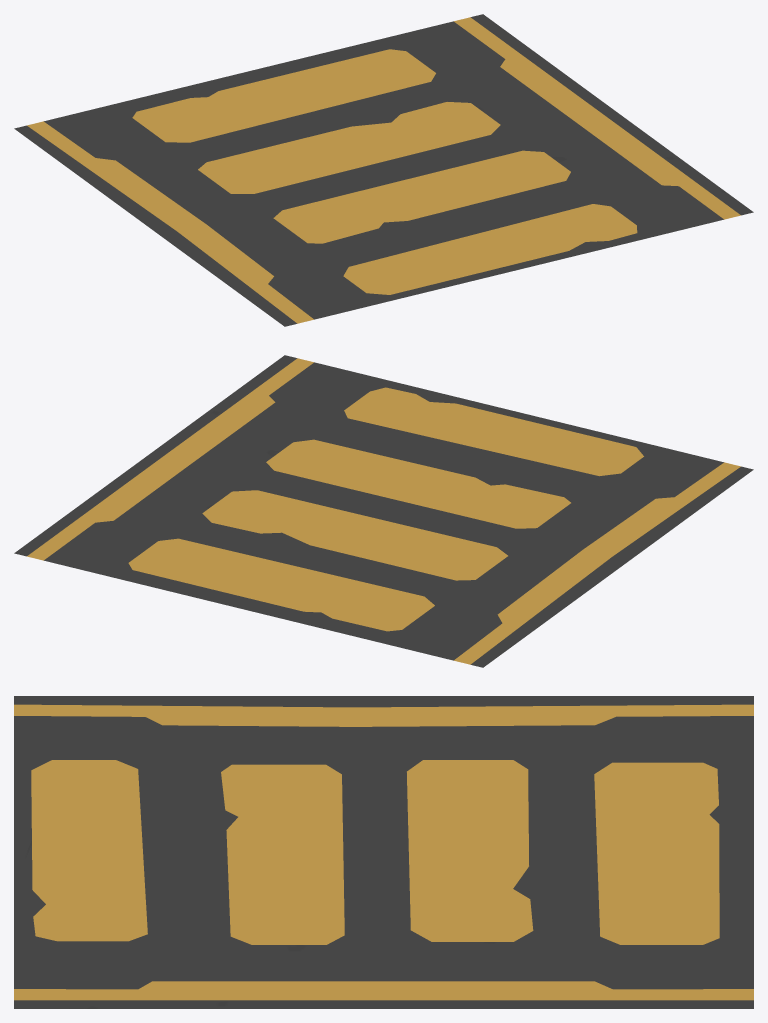
The model's file is SM_Env_Road_Crossing_01_SF.fbx.
3 views of the same model, one above another, from view 1: azimuth 30°, elevation 25°; view 2: azimuth 150°, elevation 25°; view 3: azimuth 270°, elevation 25° (orthographic). The views are drawn at different scales.
Visible parts, largest first — view 1: SM_Env_Road_Crossing_01_SF; view 2: SM_Env_Road_Crossing_01_SF; view 3: SM_Env_Road_Crossing_01_SF.
Boxes of the visible parts, left/top/right/bottom form: SM_Env_Road_Crossing_01_SF: left=14, top=14, right=753, bottom=326; SM_Env_Road_Crossing_01_SF: left=14, top=355, right=753, bottom=667; SM_Env_Road_Crossing_01_SF: left=14, top=696, right=753, bottom=1008.
Bounding box in the file's own units: 500 × 3.65e-05 × 500.
